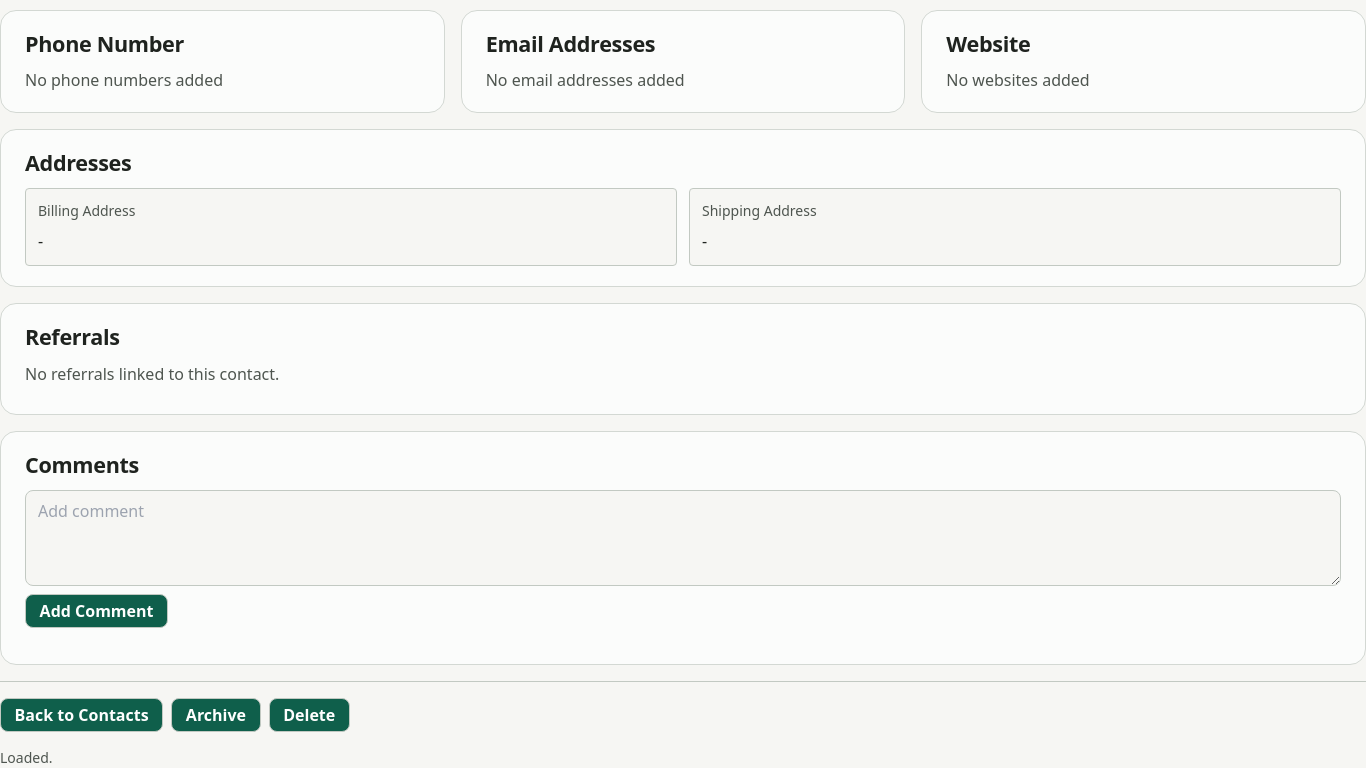
Test: Contact detail page › adds a comment and updates visible comments
(page scrolled)
Type "Follow up next week" into the text box labelled "Add comment" at (683,538), box [25, 490, 1341, 586]
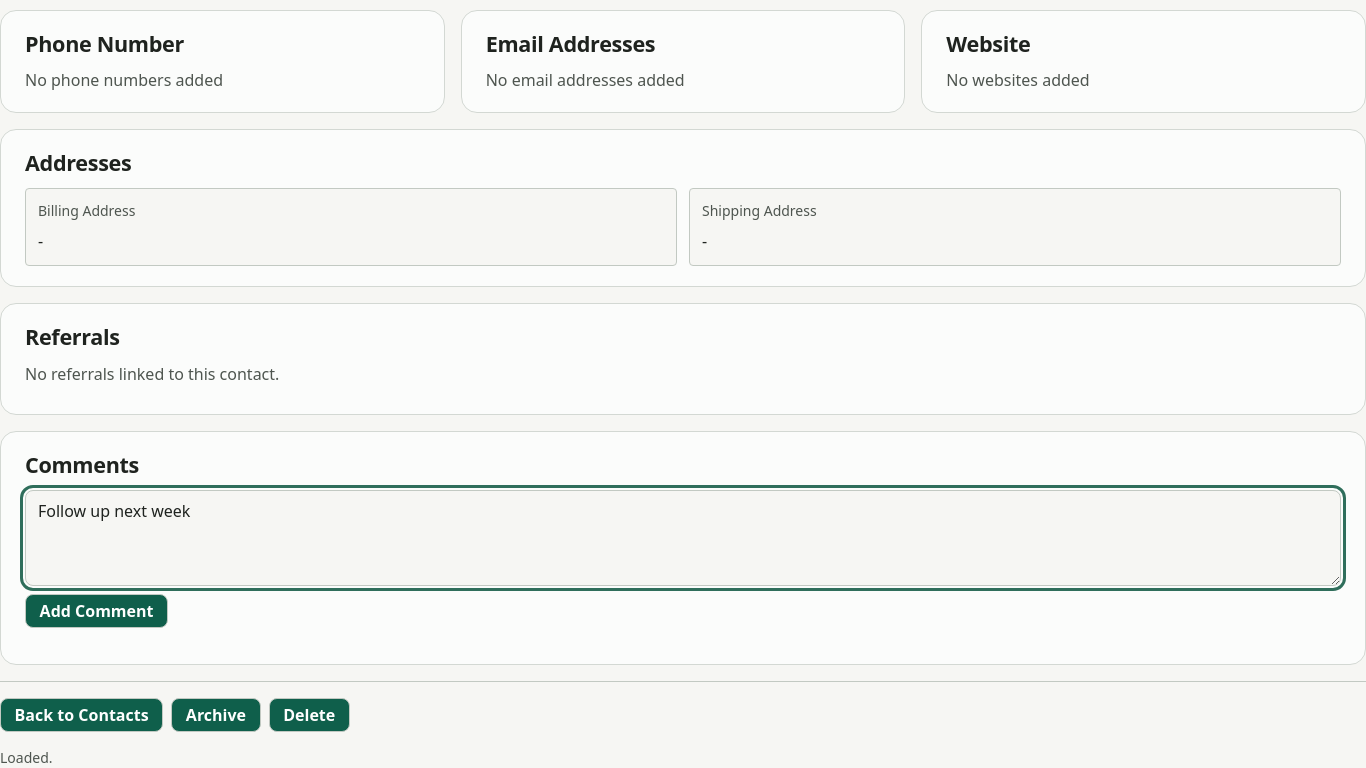
Click the button "Add Comment" at (97,611), box [25, 594, 168, 628]
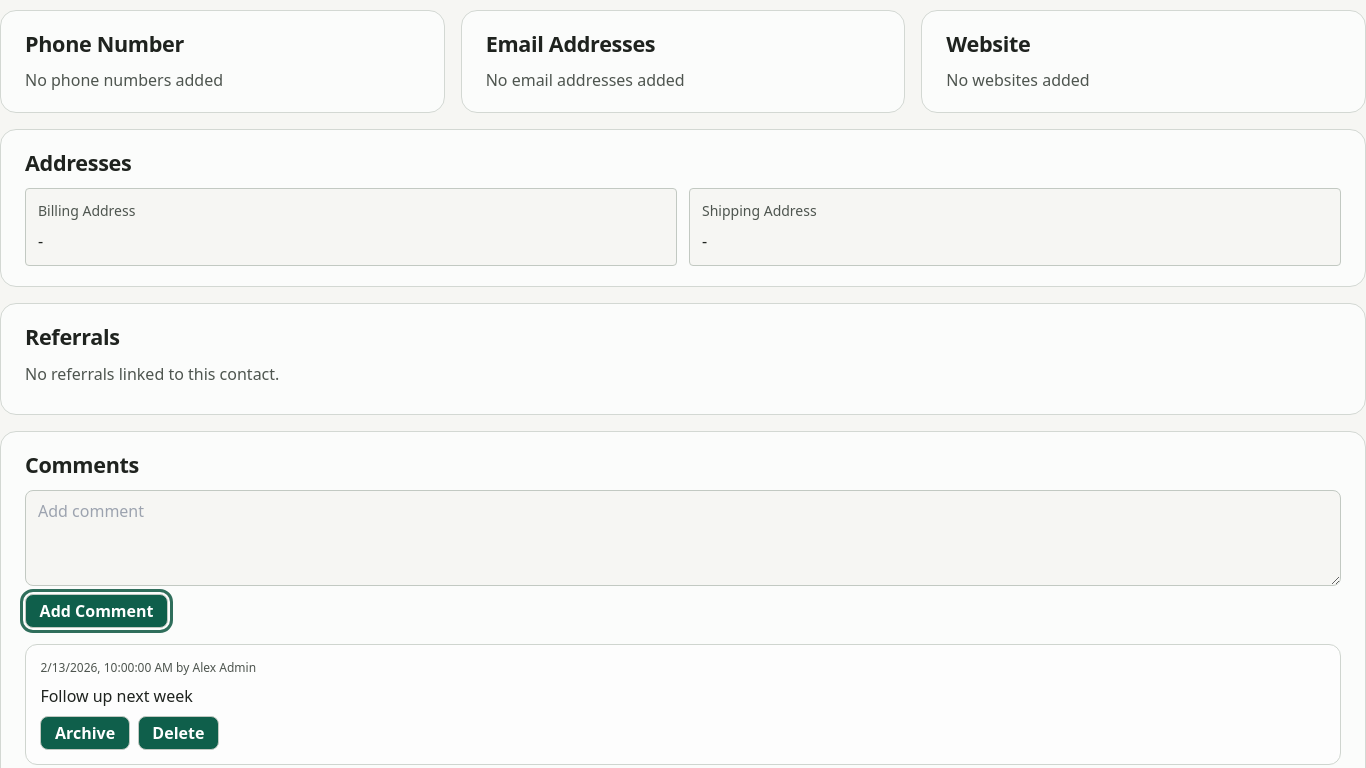
Now the text "Follow up next week" is shown, box [40, 684, 193, 706]
